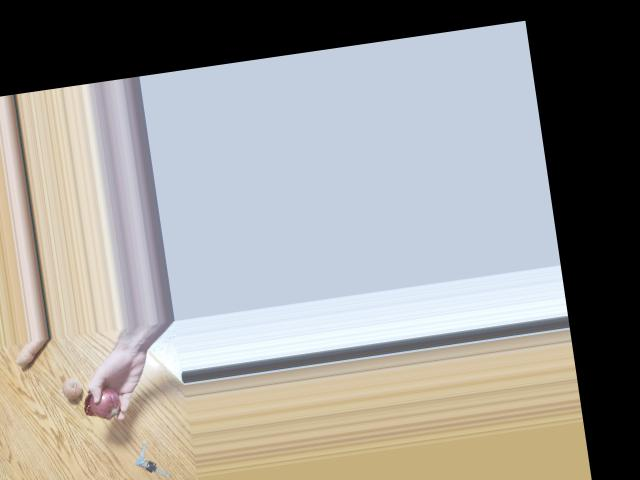onion: (62, 373, 89, 400)
